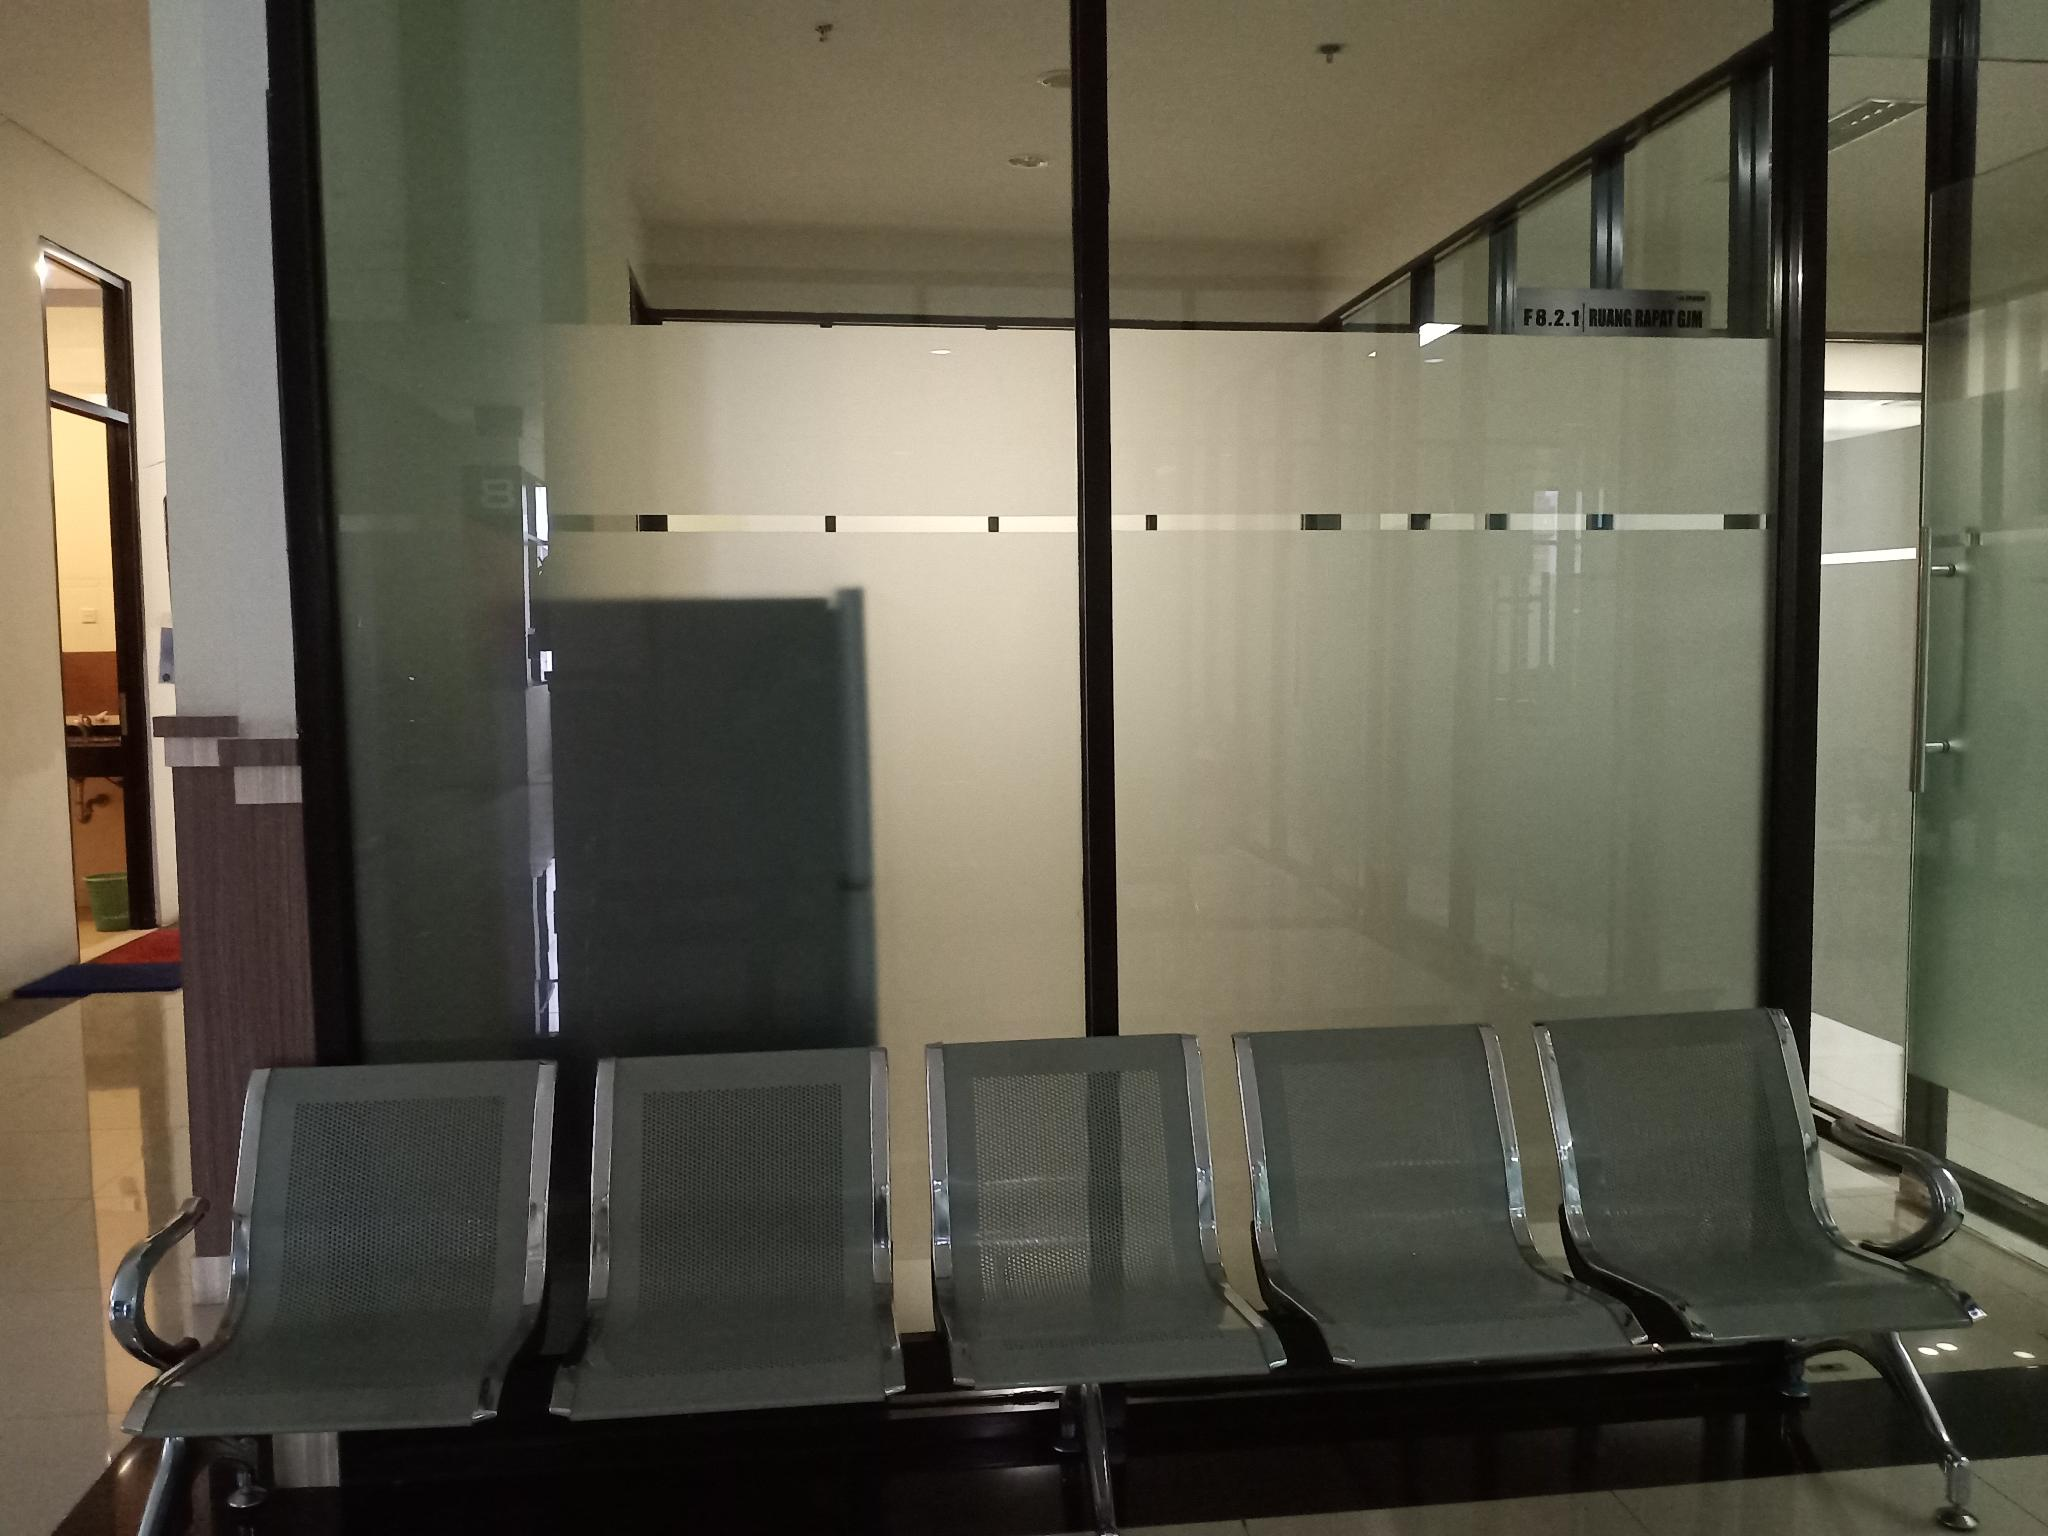plate: (1511, 281, 1714, 342)
